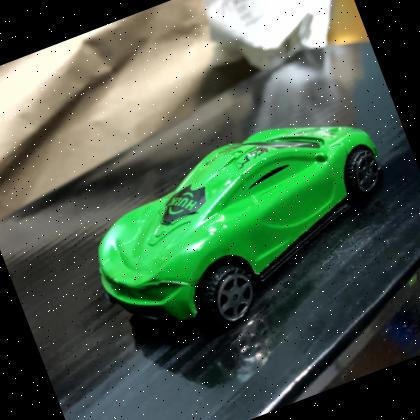Car: (98, 126, 383, 326)
